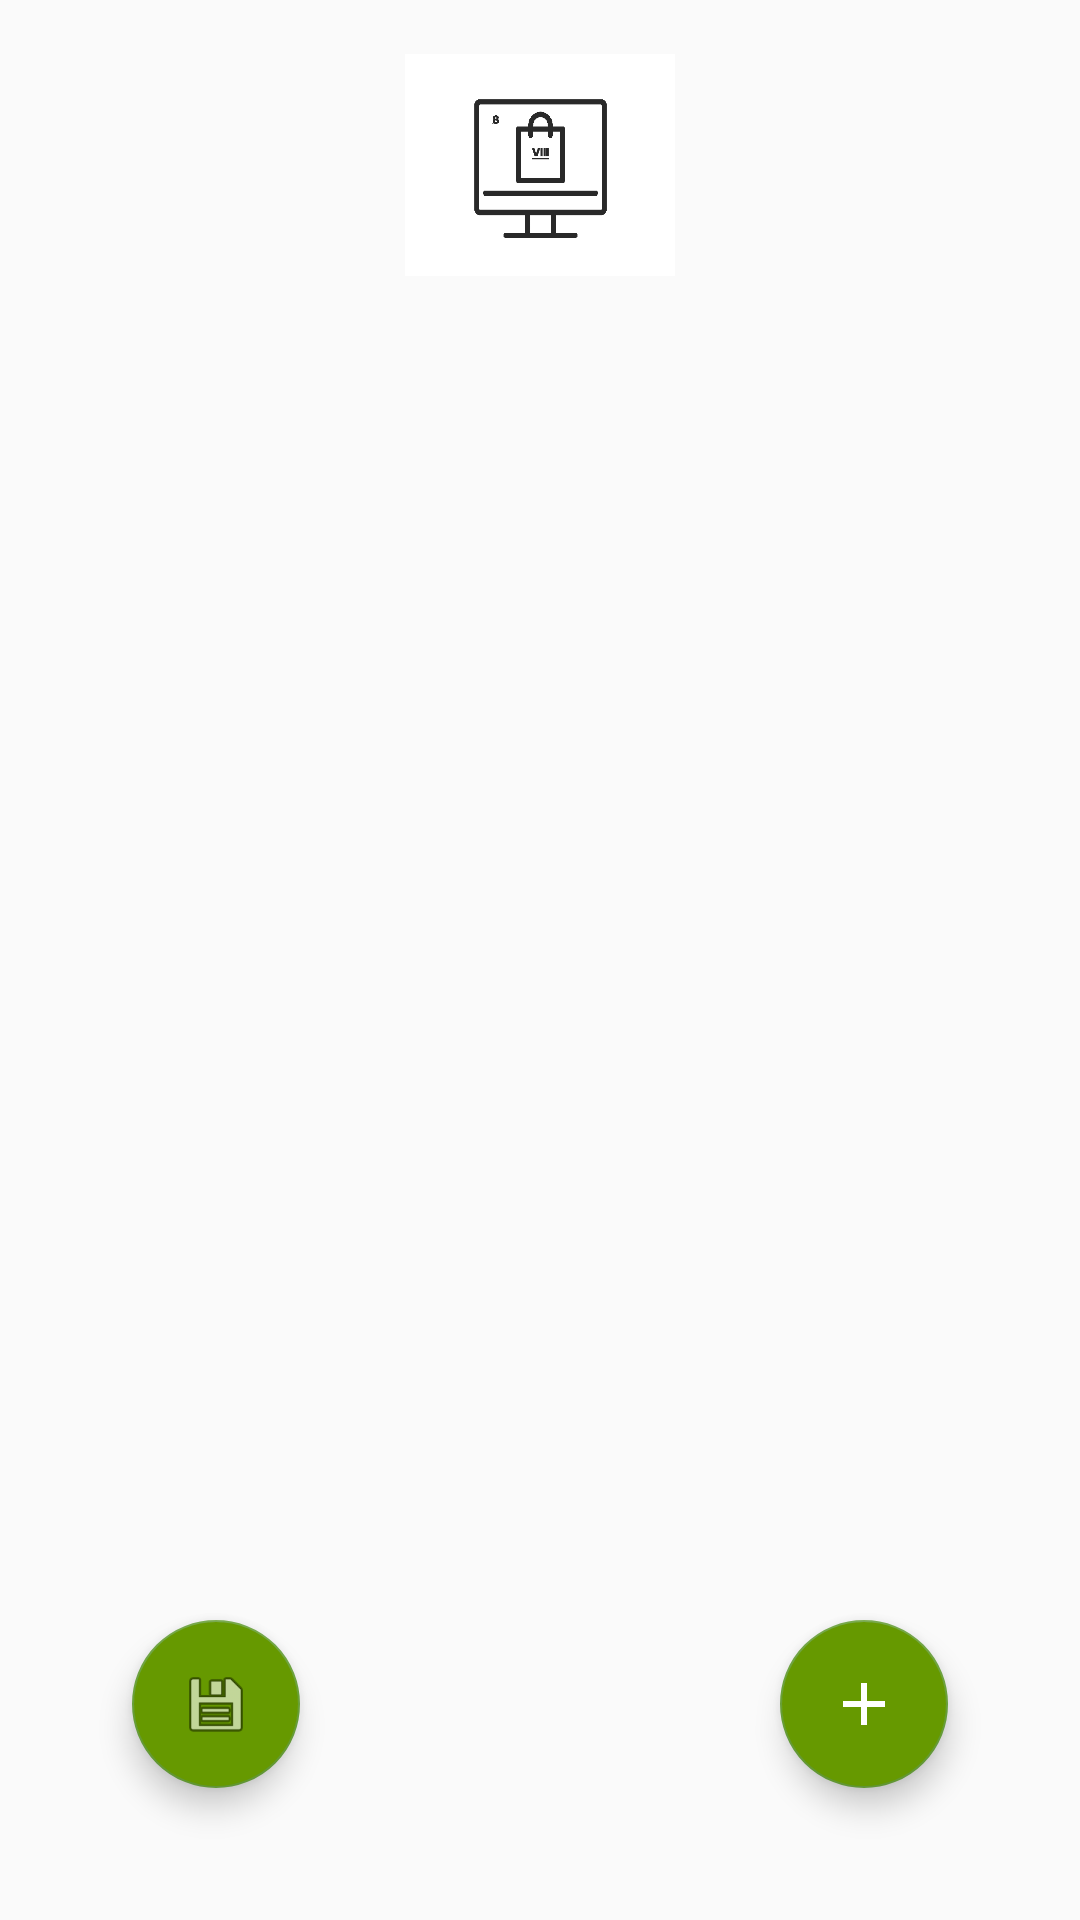

Named icons in this screenshot (1080*1920) and their centers, [x,y]:
add: [864,1704]
save: [216,1704]
